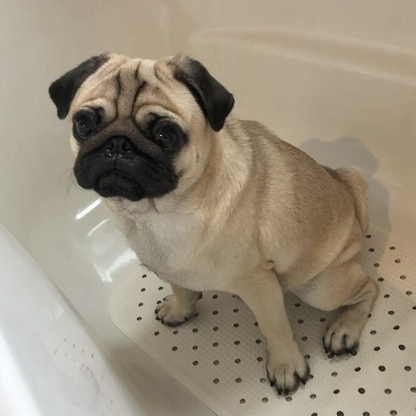Pug: (45, 47, 385, 401)
